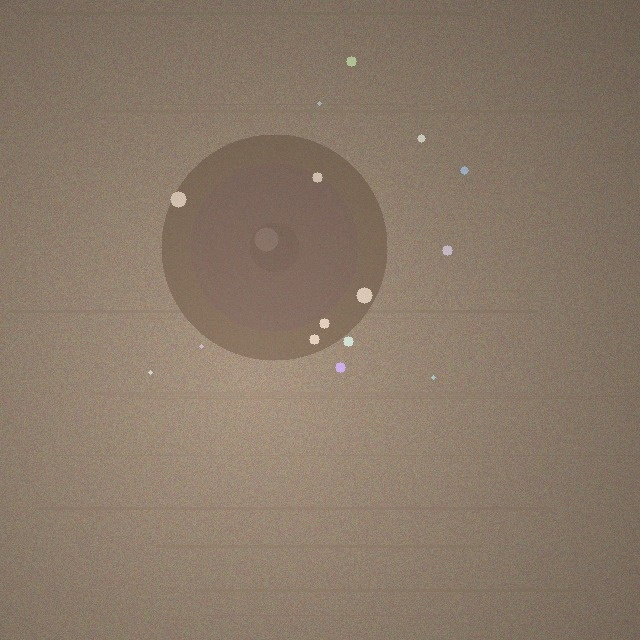overburn: (161, 134, 387, 360)
